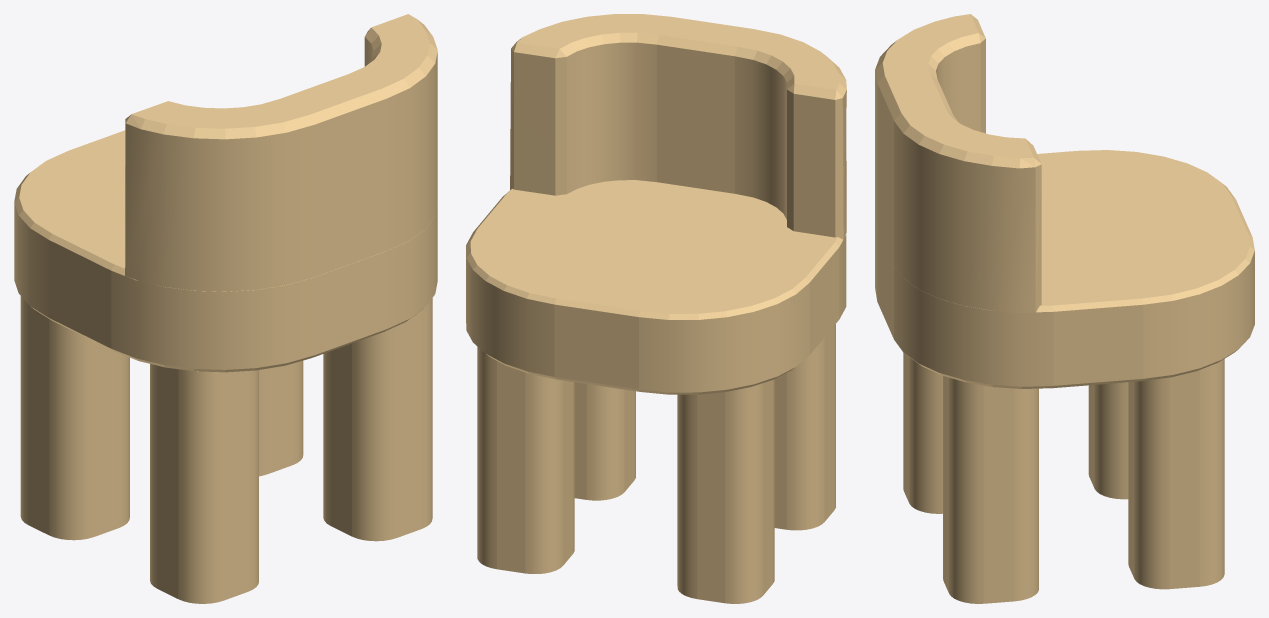
Rendered from play_chair2.FBX.
3 renders of one model, left to right at view 1: azimuth 30°, elevation 25°; view 2: azimuth 150°, elevation 25°; view 3: azimuth 270°, elevation 25°, orthographic. The views are drawn at different scales.
Visible parts, largest first — view 1: play chair 2; view 2: play chair 2; view 3: play chair 2.
Part boxes in pixels (left/top/right/bottom): play chair 2: left=14, top=14, right=437, bottom=603; play chair 2: left=466, top=14, right=846, bottom=603; play chair 2: left=875, top=14, right=1254, bottom=603.
Bounding box in the file's own units: 13.75 × 17.93 × 13.7.
